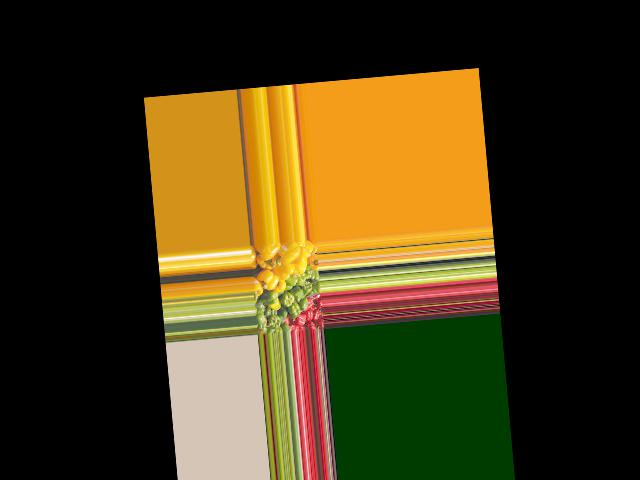bell_pepper: (255, 317, 268, 334)
